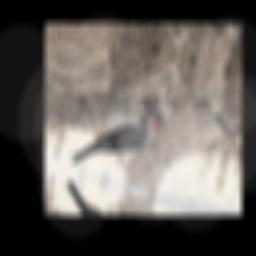Swallow: (64, 86, 173, 191)
